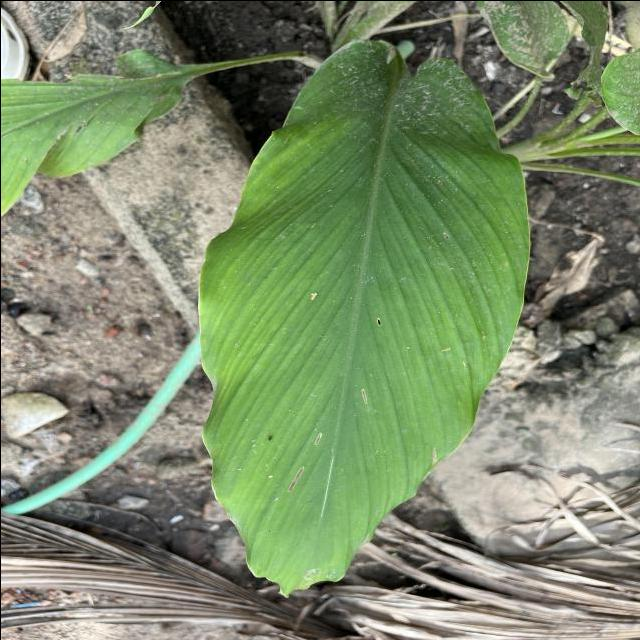Curcuma longa: (185, 32, 536, 603)
